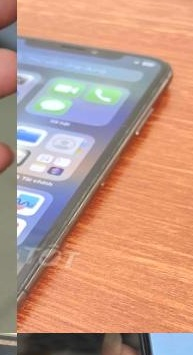physical_damage: (0, 178, 36, 355)
